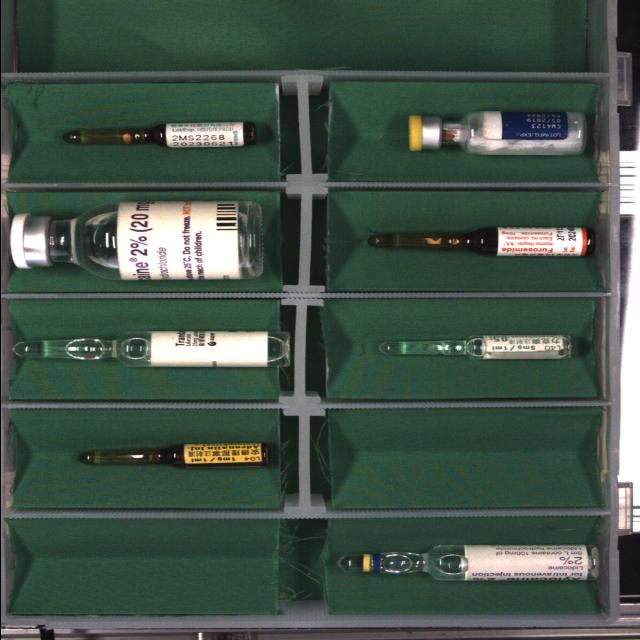Vials: (10, 201, 263, 280), (407, 111, 585, 155)
